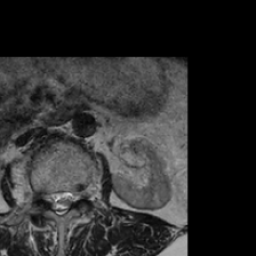CCS_normal: (57, 182, 64, 223)
LFS_normal: (73, 179, 83, 208)
LLS_normal: (64, 182, 73, 217)
RFS_normal: (40, 181, 48, 208)
RLS_normal: (48, 182, 57, 220)
